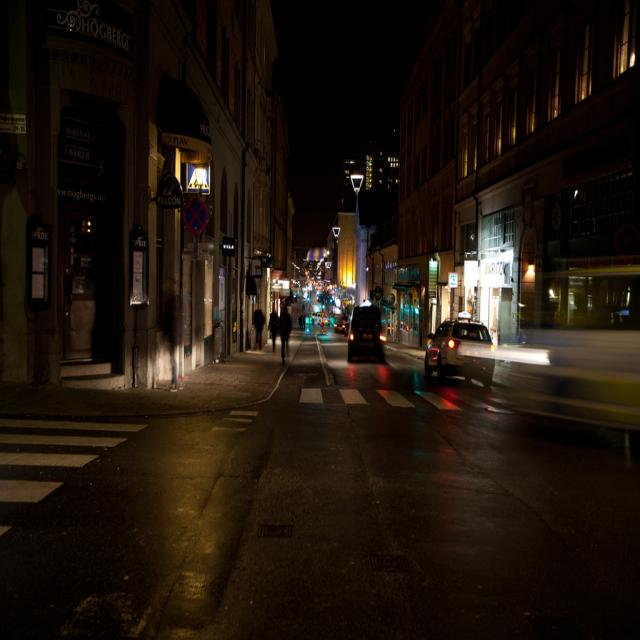car: (422, 315, 495, 386), (346, 303, 387, 361), (331, 319, 346, 337)
